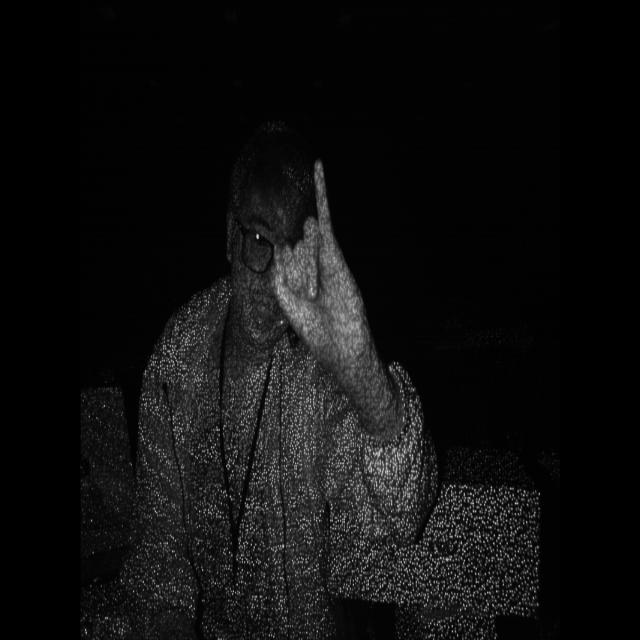I: (260, 151, 377, 380)
